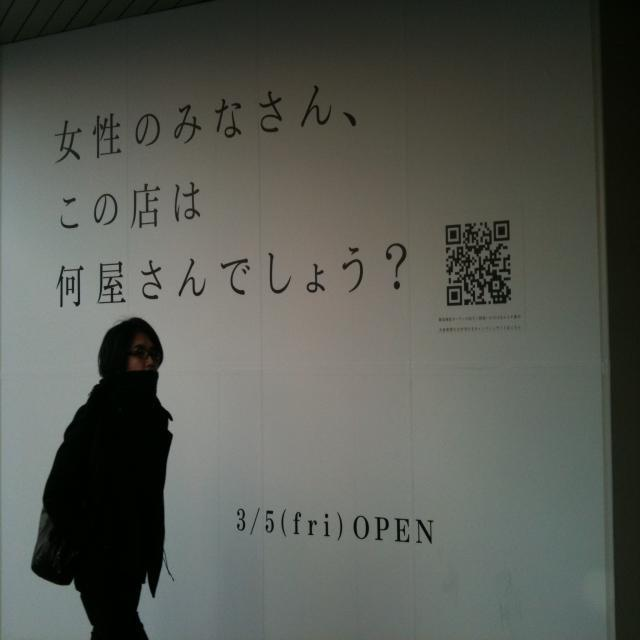qrcode: (447, 222, 512, 307)
